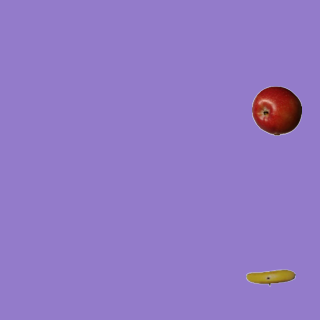Apple Braeburn: (251, 85, 301, 135)
Banana: (245, 252, 295, 302)
